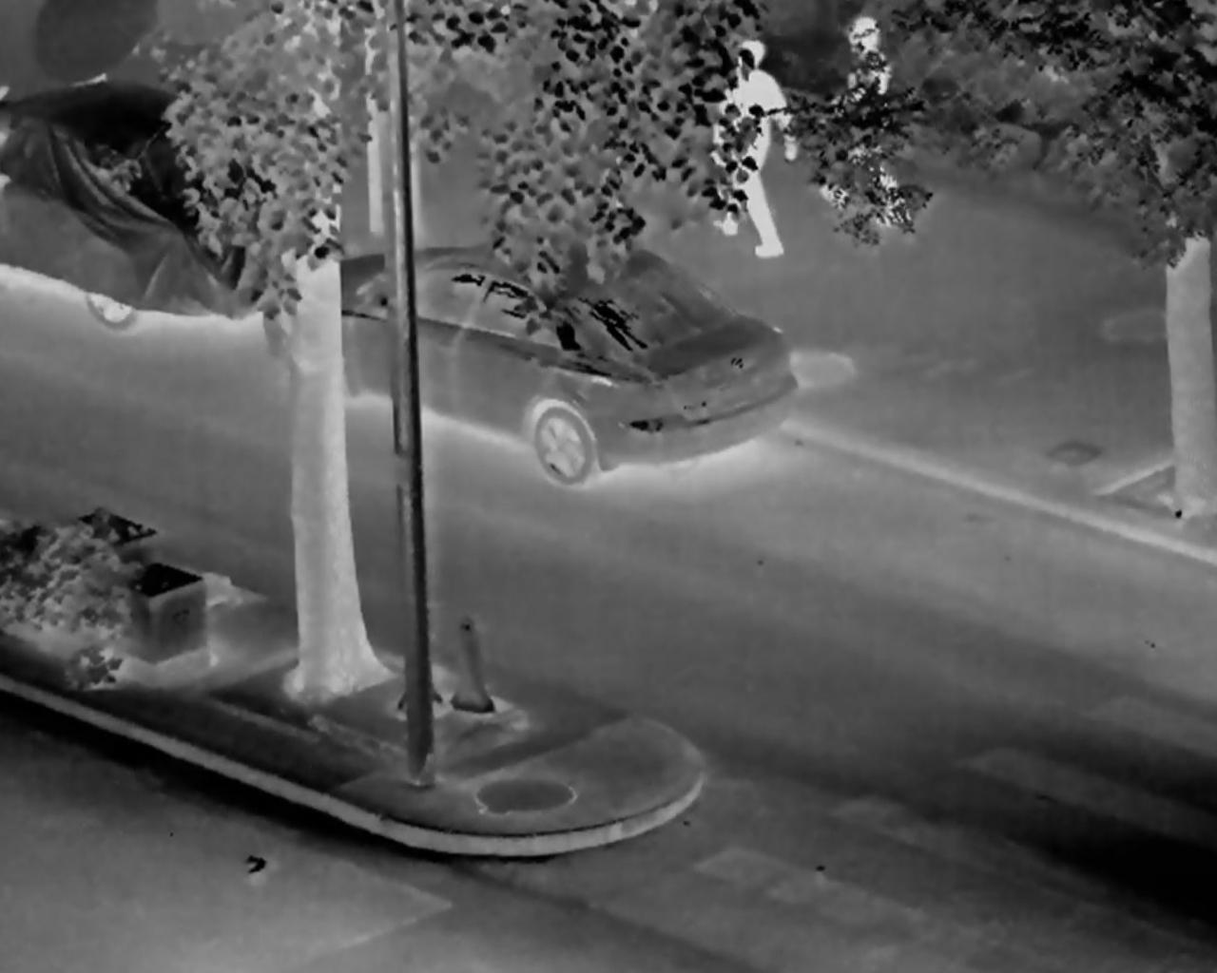person: (701, 40, 797, 257), (816, 18, 909, 225)
